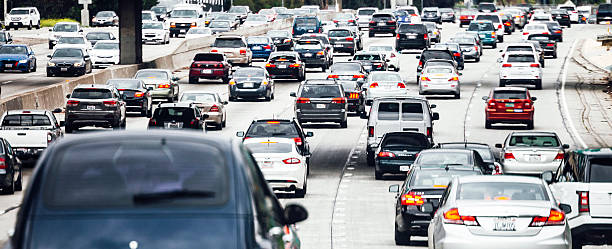car: (19, 131, 266, 249), (433, 177, 571, 249), (560, 147, 612, 237), (501, 131, 570, 180), (366, 94, 433, 144), (257, 138, 310, 194), (399, 170, 444, 235), (371, 128, 427, 180), (3, 104, 60, 154), (67, 86, 127, 127), (295, 75, 345, 122), (484, 87, 536, 124), (499, 50, 542, 88), (229, 64, 275, 99), (45, 46, 93, 78), (420, 66, 463, 100), (187, 52, 231, 84), (149, 105, 203, 130), (185, 91, 227, 122), (145, 66, 182, 100), (212, 34, 249, 68), (169, 3, 206, 36), (271, 48, 307, 81), (118, 79, 153, 110), (1, 43, 36, 73), (136, 17, 172, 46), (298, 39, 327, 71), (395, 23, 429, 50), (7, 4, 42, 30), (458, 33, 482, 70), (368, 11, 398, 40), (48, 18, 79, 46), (89, 41, 118, 69), (329, 26, 357, 55), (246, 34, 275, 61), (290, 15, 321, 38), (376, 43, 403, 68), (535, 32, 559, 60), (473, 19, 496, 48), (346, 81, 365, 111), (93, 10, 120, 30), (271, 27, 290, 55), (355, 6, 371, 29), (423, 4, 441, 23)
